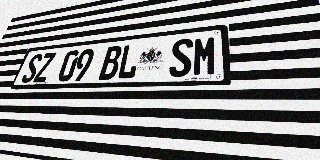0: (56, 50, 81, 82)
9: (71, 48, 96, 81)
B: (98, 45, 123, 80)
L: (116, 43, 141, 79)
M: (192, 35, 217, 76)
S: (168, 38, 193, 77), (20, 54, 44, 83)
Z: (33, 52, 57, 83)
